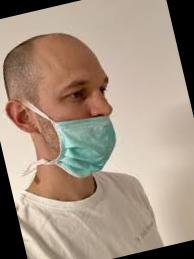mask_weared_incorrect: (38, 50, 132, 187)
